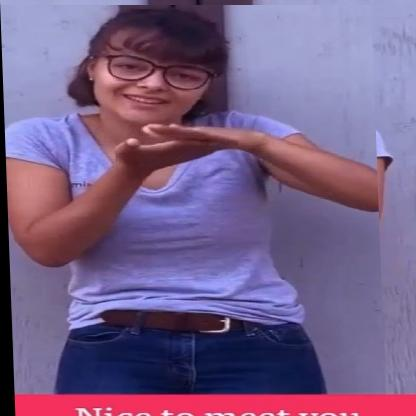NiceToMeetYou: (0, 5, 383, 399)
